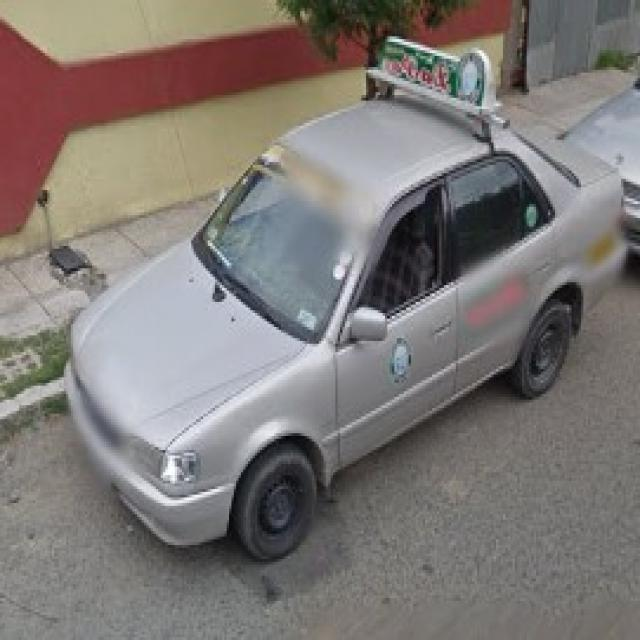Car: (60, 75, 628, 552)
